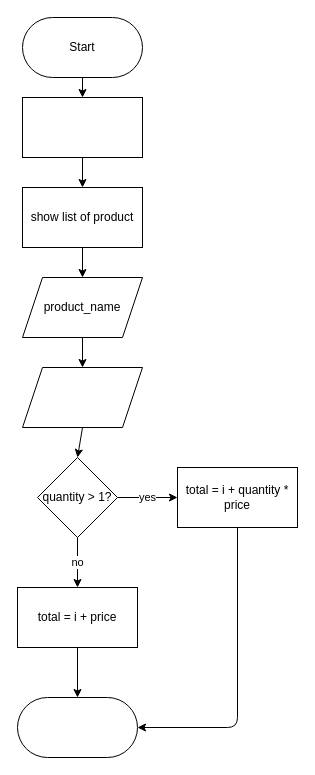
This 315x775 diagram has some shape labels left out. Here are the shapes that lost their labels. From the top down, the centre of each, then its label:
the point at 82,127: i = 0
the point at 82,397: quantity
the point at 77,727: End
